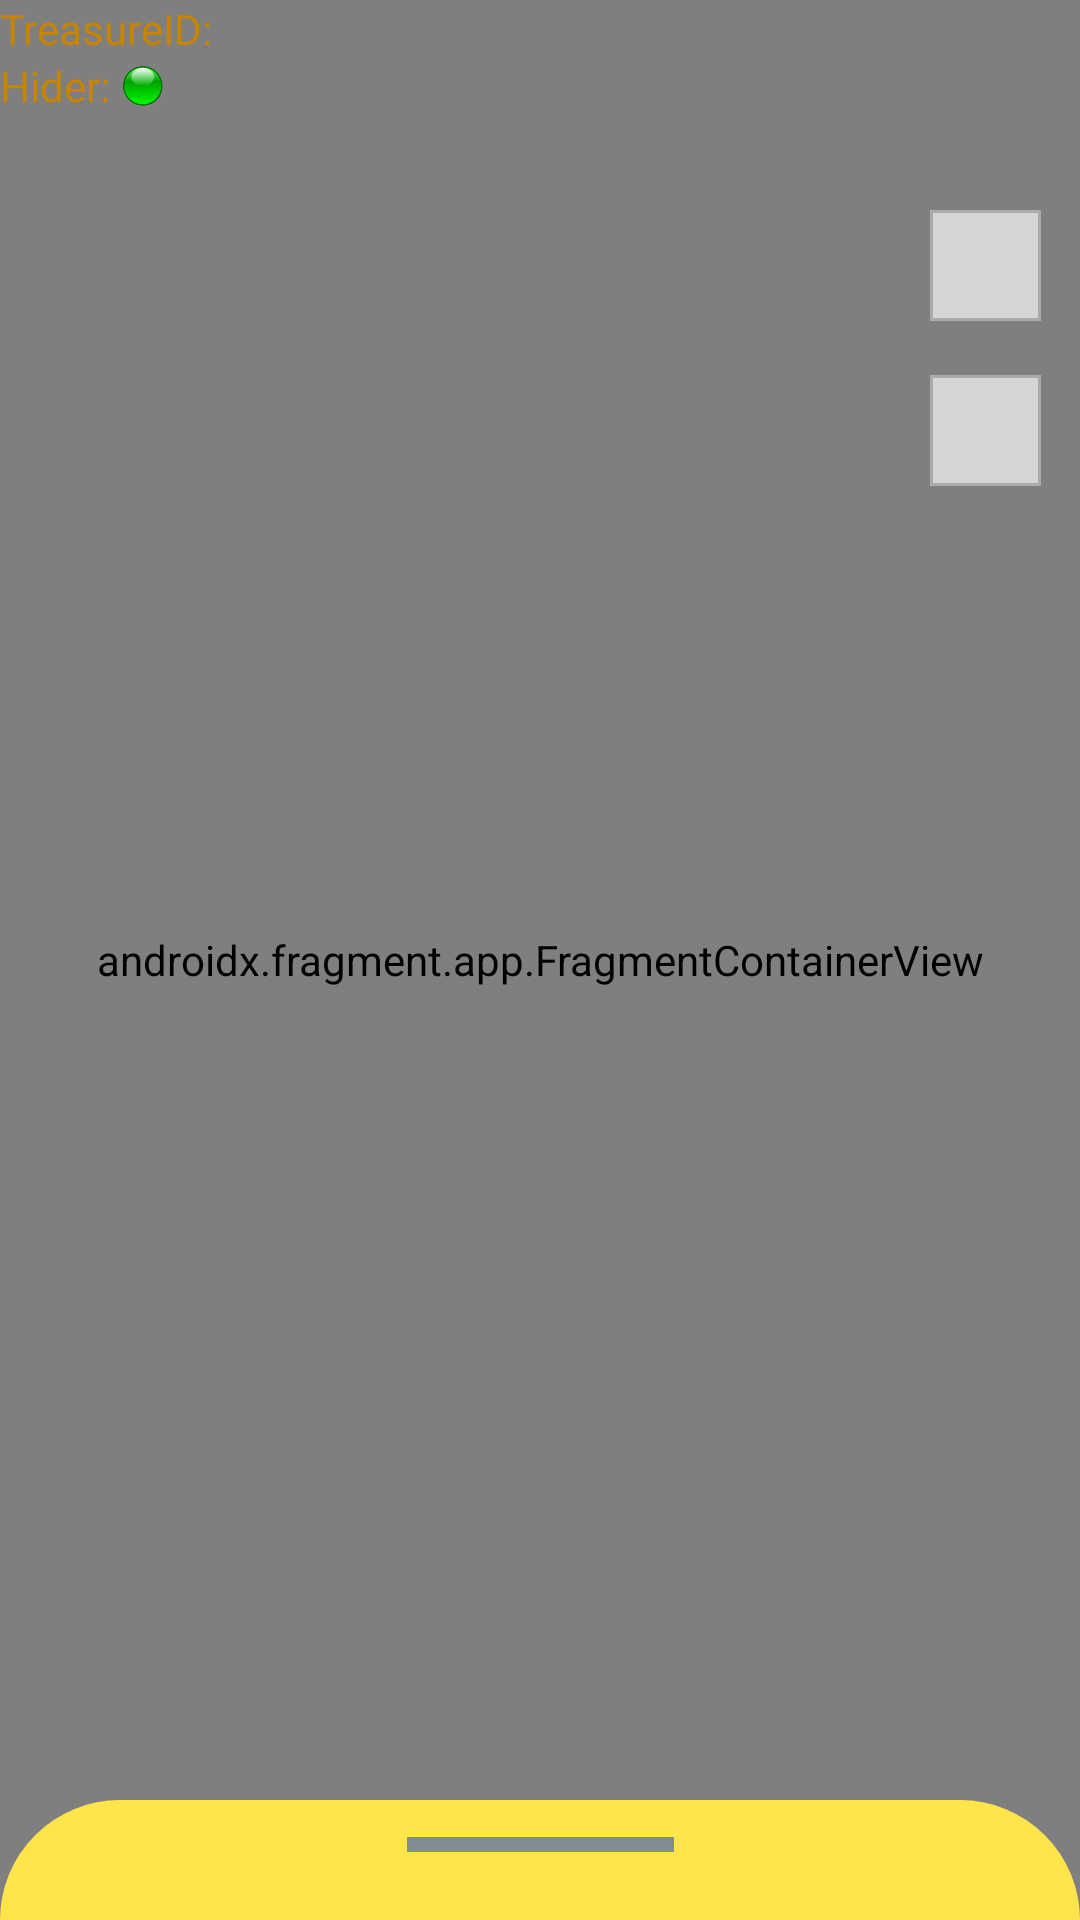

Icons on this 1080*1920 Android screen, each with the point to tap as (x=x, y=y):
online circle: (x=143, y=86)
